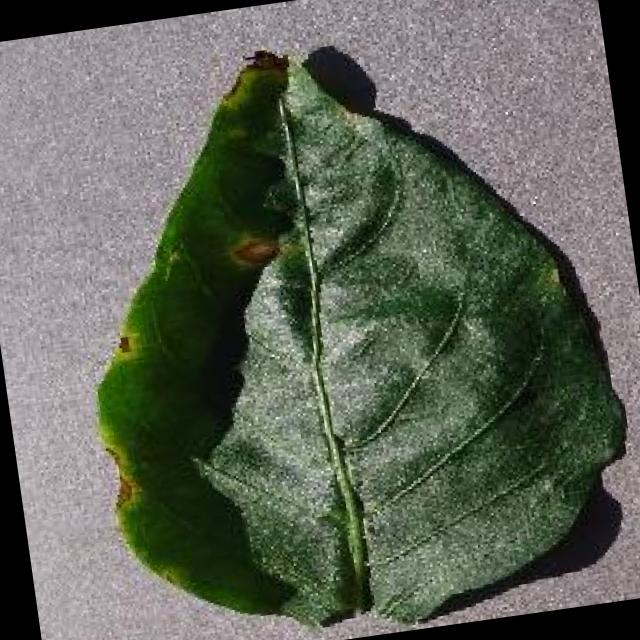Chilli_Bacterial_Spot: (43, 2, 640, 640), (222, 227, 286, 275), (236, 42, 292, 78), (107, 472, 142, 511), (110, 331, 135, 356)
